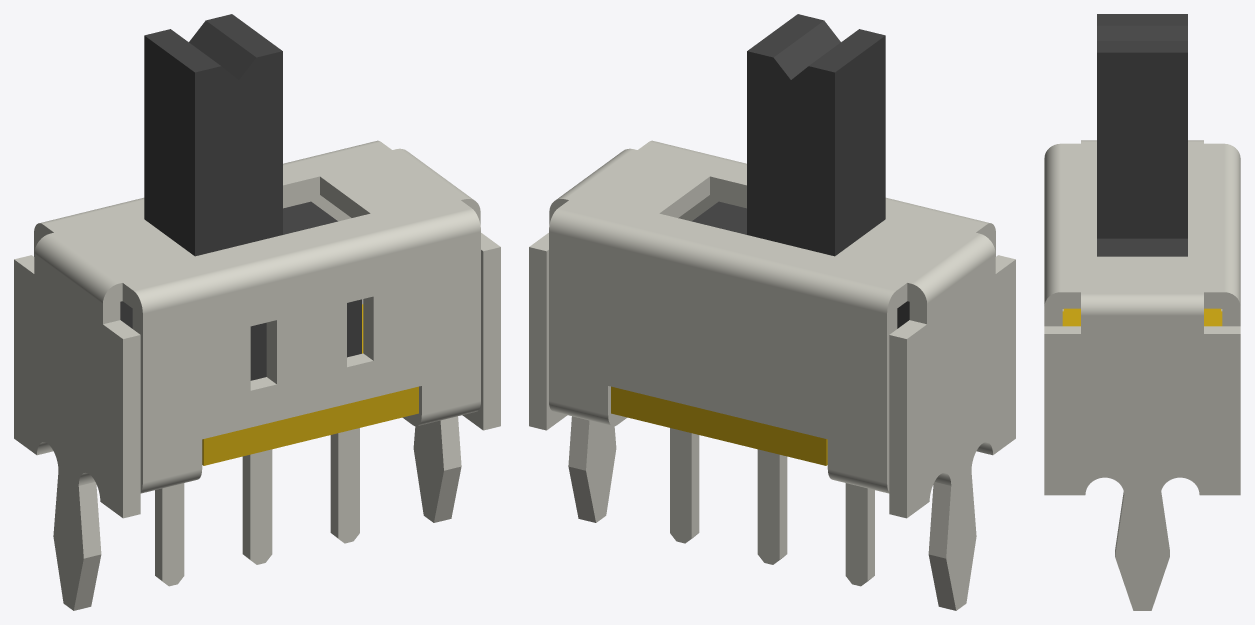
The model's file is sw_slide_spdt_straight_ck_os102011ms2q.glb.
The picture shows the model from 3 angles, left to right: view 1: azimuth 30°, elevation 25°; view 2: azimuth 150°, elevation 25°; view 3: azimuth 270°, elevation 25°; orthographic projection. The views are drawn at different scales.
Visible parts, largest first — view 1: body, btn_slide, pin_1, pin_5, pin_3, pin_4, pin_2; view 2: body, btn_slide, pin_1, pin_5, pin_3, pin_4, pin_2; view 3: body, btn_slide, pin_5.
Part boxes in pixels (x1=…): body: x1=14, y1=140, x2=500, y2=518; btn_slide: x1=120, y1=14, x2=361, y2=380; pin_1: x1=53, y1=471, x2=101, y2=610; pin_5: x1=413, y1=416, x2=461, y2=522; pin_3: x1=242, y1=449, x2=272, y2=564; pin_4: x1=330, y1=428, x2=359, y2=543; pin_2: x1=155, y1=483, x2=184, y2=586; body: x1=529, y1=140, x2=1015, y2=518; btn_slide: x1=692, y1=14, x2=909, y2=328; pin_1: x1=928, y1=471, x2=976, y2=610; pin_5: x1=568, y1=416, x2=616, y2=522; pin_3: x1=757, y1=449, x2=787, y2=564; pin_4: x1=670, y1=428, x2=699, y2=543; pin_2: x1=845, y1=483, x2=874, y2=586; body: x1=1044, y1=140, x2=1240, y2=495; btn_slide: x1=1097, y1=14, x2=1187, y2=256; pin_5: x1=1115, y1=492, x2=1169, y2=610.
Size of the model in its own units: 0.0086 by 0.0115 by 0.0043.
